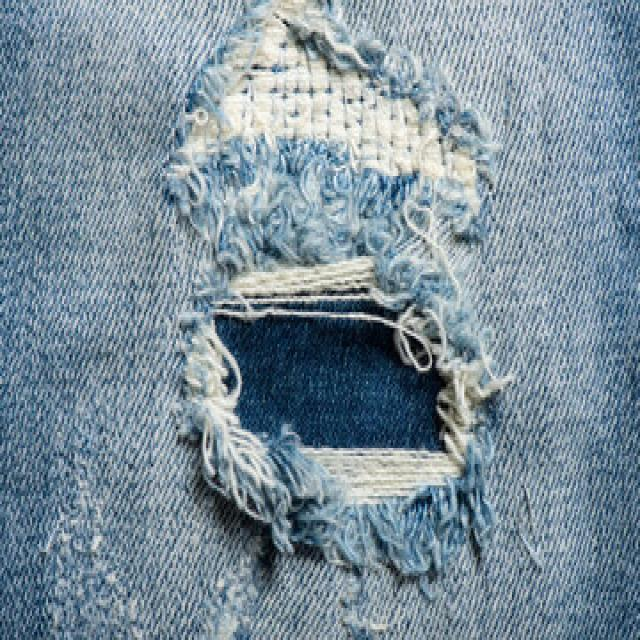Hole: (167, 0, 506, 576)
